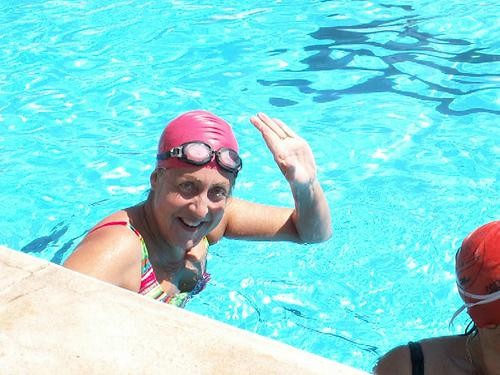swimmer: (63, 104, 332, 287), (373, 217, 500, 374)
